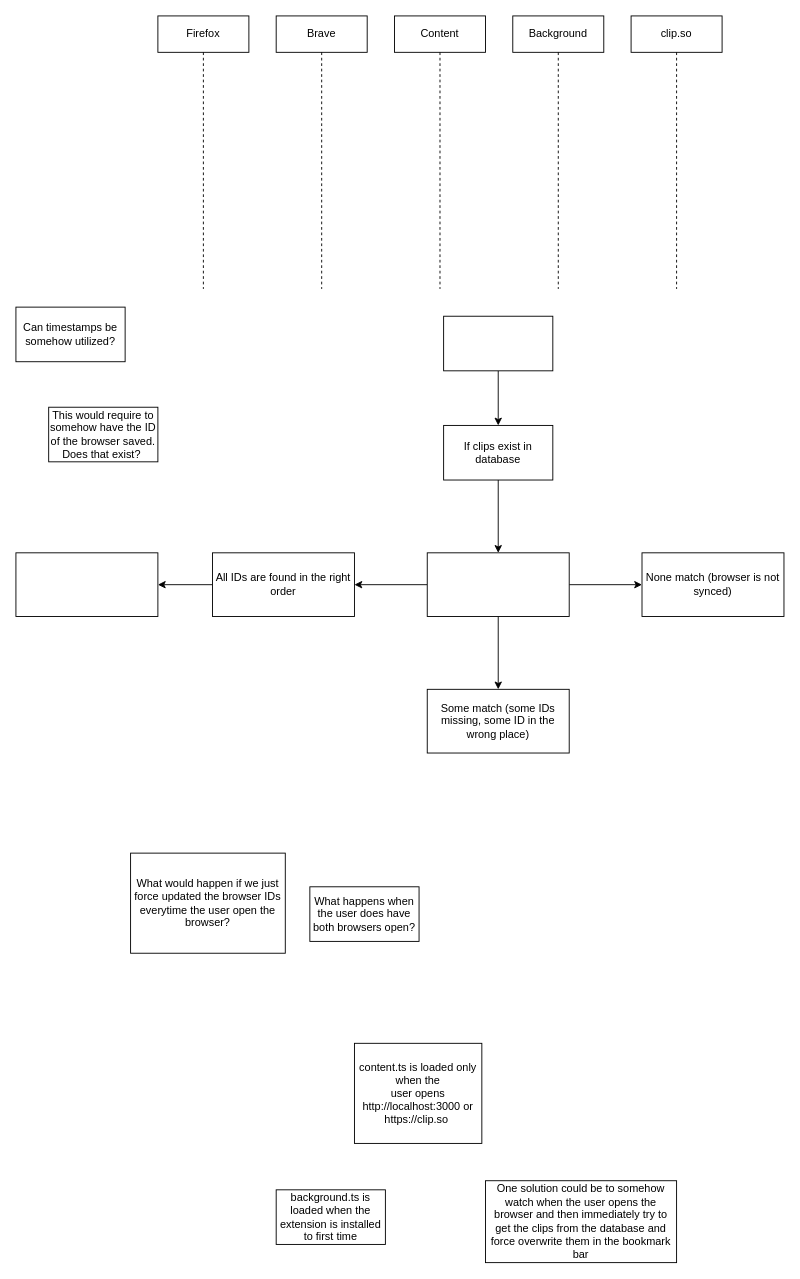
This 800x1279 diagram has some shape labels left out. The centre of each missing label's shape, as x and y in pixels:
"Check if some of the browsers own bookmark IDs can be found from the database" goes at point 497,584.
"No need to update anything" goes at point 86,584.
"Open up browser" goes at point 498,343.
